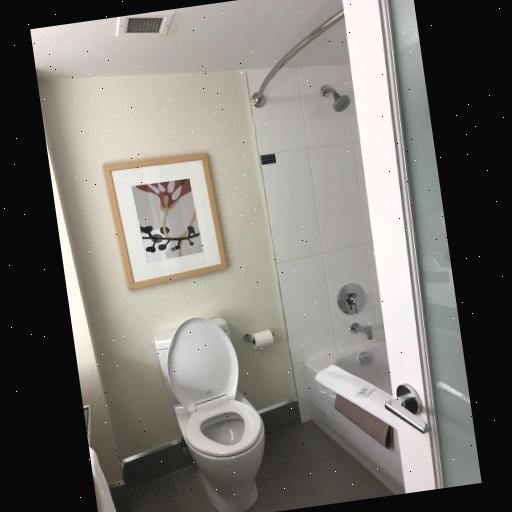clean_bathtub: (305, 332, 403, 493)
clean_floor: (239, 413, 397, 512), (116, 464, 213, 512)
clean_toilet: (142, 305, 293, 512)
